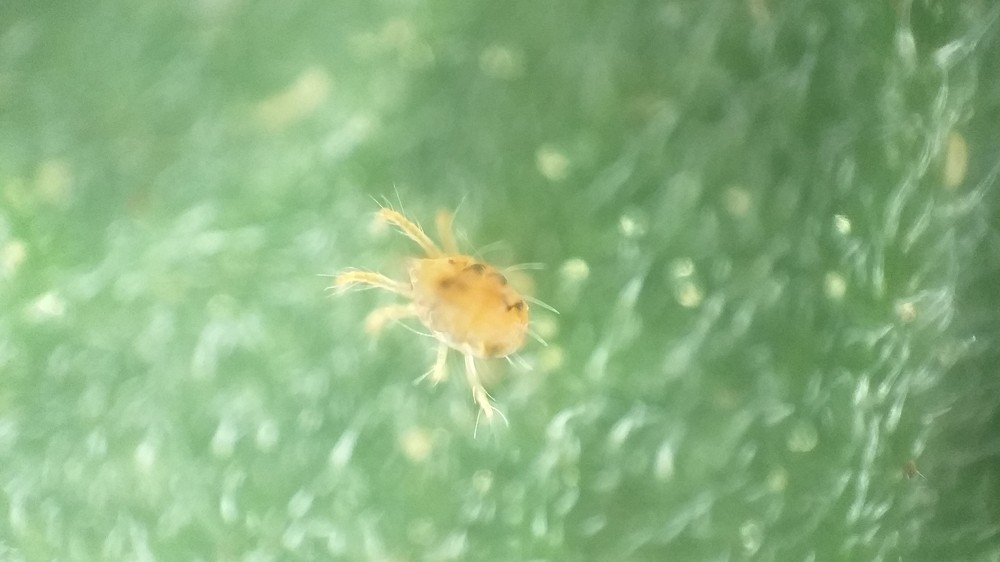Aracnido Rojo: (303, 190, 593, 439)
